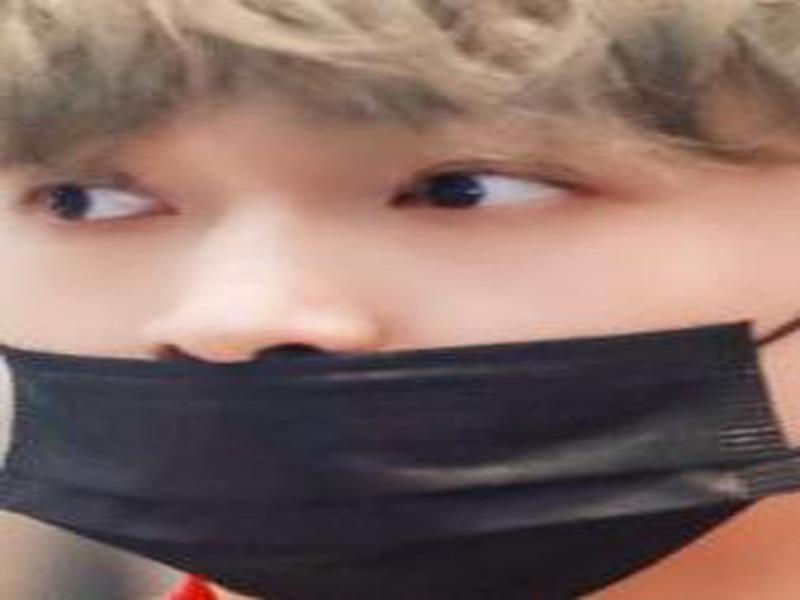with_mask: (1, 1, 797, 596)
